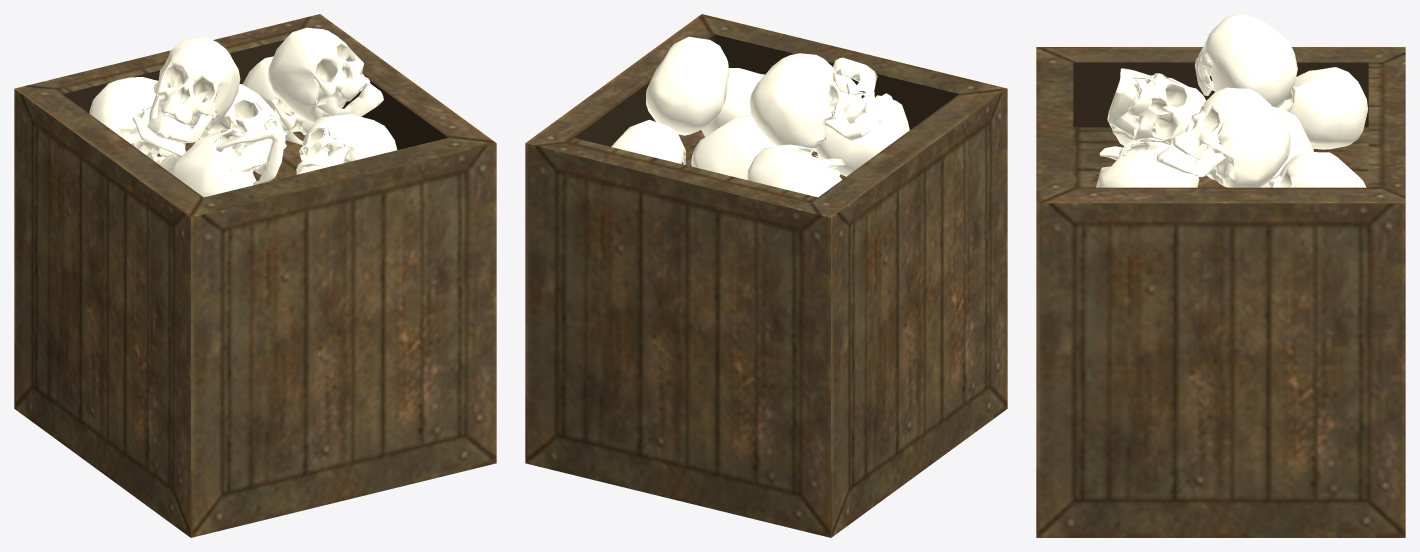
The model's file is CrateSkulls02.glb.
3 views of the same model, side by side, from view 1: azimuth 30°, elevation 25°; view 2: azimuth 150°, elevation 25°; view 3: azimuth 270°, elevation 25° (orthographic). The views are drawn at different scales.
Visible parts, largest first — view 1: CrateSkulls02; view 2: CrateSkulls02; view 3: CrateSkulls02.
Boxes of the visible parts, left/top/right/bottom form: CrateSkulls02: left=14, top=14, right=496, bottom=537; CrateSkulls02: left=525, top=14, right=1007, bottom=537; CrateSkulls02: left=1036, top=14, right=1405, bottom=537.
Size of what is drawn, in the model's own units: 0.9043 by 1.13 by 0.9043.
Materials: 1 (1 with a texture image).
